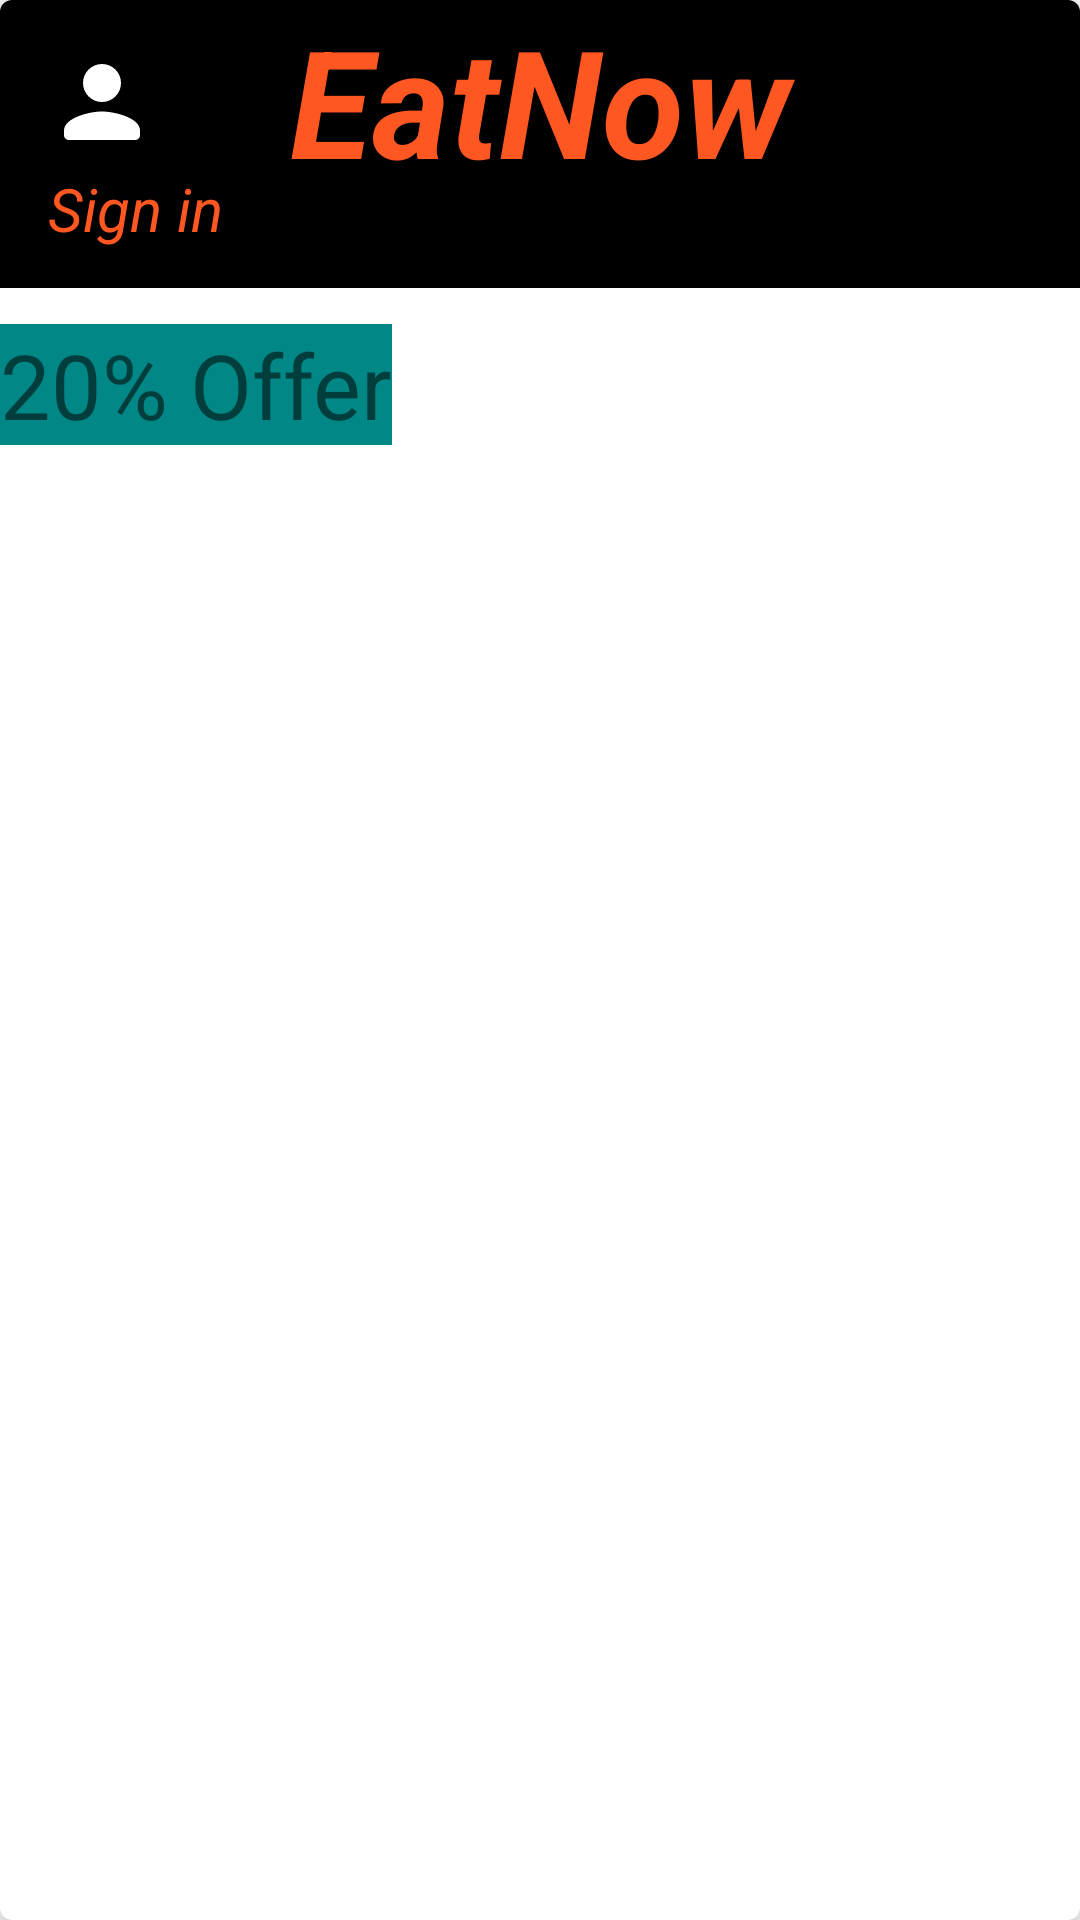

Screen size 1080*1920. Icon name, then its center in pixels as (x=x, y=y):
person: (x=102, y=102)
